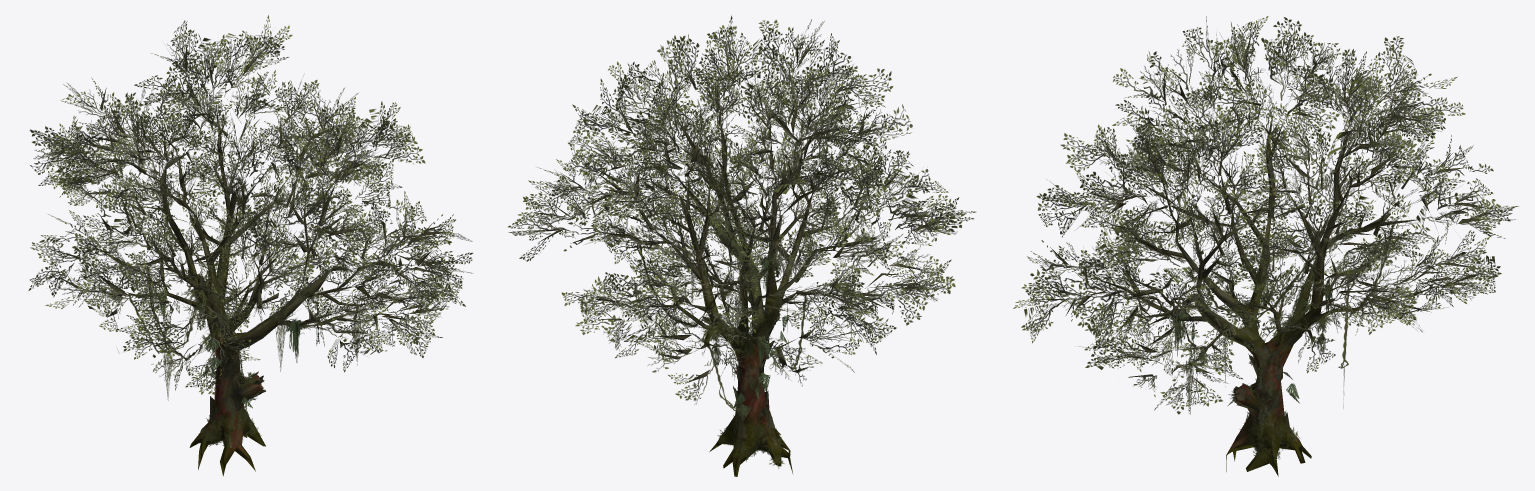
The picture shows the model from 3 angles, left to right: view 1: azimuth 30°, elevation 25°; view 2: azimuth 150°, elevation 25°; view 3: azimuth 270°, elevation 25°; orthographic projection. The views are drawn at different scales.
Visible parts, largest first — view 1: TreeGen_ClusterB_0, TreeGen_BarkB_0, TreeGen_ClusterB2_0, TreeGen_VinesB_0, TreeGen_CortexB_0; view 2: TreeGen_ClusterB_0, TreeGen_BarkB_0, TreeGen_ClusterB2_0, TreeGen_VinesB_0, TreeGen_CortexB_0; view 3: TreeGen_ClusterB_0, TreeGen_BarkB_0, TreeGen_ClusterB2_0, TreeGen_VinesB_0, TreeGen_CortexB_0.
Boxes of the visible parts, x1,y1,x2,y2 form: TreeGen_ClusterB_0: (28,15,472,394); TreeGen_BarkB_0: (48,43,449,476); TreeGen_ClusterB2_0: (33,39,450,380); TreeGen_VinesB_0: (100,113,373,446); TreeGen_CortexB_0: (209,284,265,424); TreeGen_ClusterB_0: (508,15,975,400); TreeGen_BarkB_0: (534,36,946,476); TreeGen_ClusterB2_0: (527,28,953,404); TreeGen_VinesB_0: (615,121,876,468); TreeGen_CortexB_0: (702,316,774,438); TreeGen_ClusterB_0: (1013,16,1518,414); TreeGen_BarkB_0: (1035,34,1491,476); TreeGen_ClusterB2_0: (1040,32,1500,397); TreeGen_VinesB_0: (1159,123,1404,463); TreeGen_CortexB_0: (1228,313,1322,430).
Size of the model in its own units: 0.9314 by 0.9959 by 1.05.
6 materials, 6 textured.
